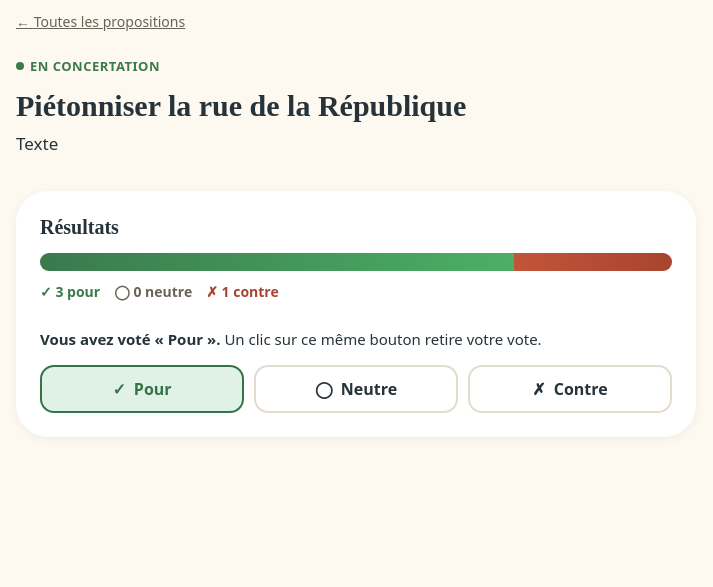
PropositionDetail › changer un vote déjà enregistré › « Oui » : le vote est remplacé (mise à jour, pas un 2e vote)
Click the button "✗ Contre" at x=570, y=390, box [468, 366, 672, 414]
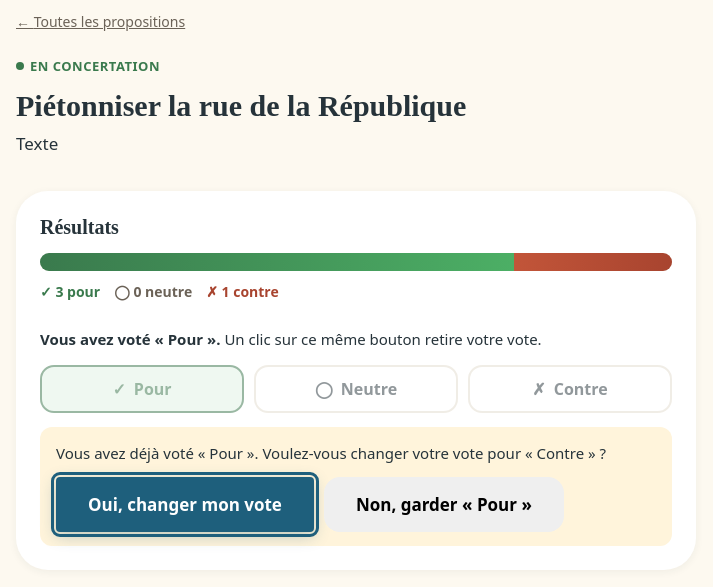
Click the button "Oui, changer mon vote" at x=185, y=505, box [56, 478, 314, 532]
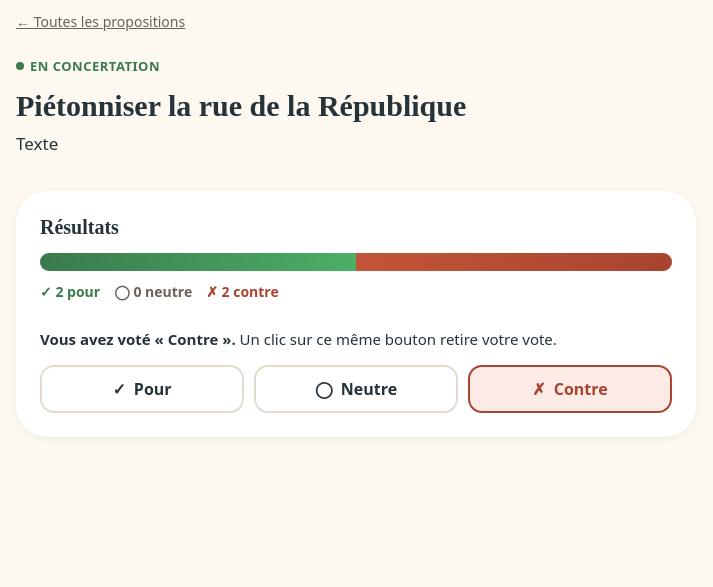
Check: the text "Voulez-vous changer votre vote" is gone
